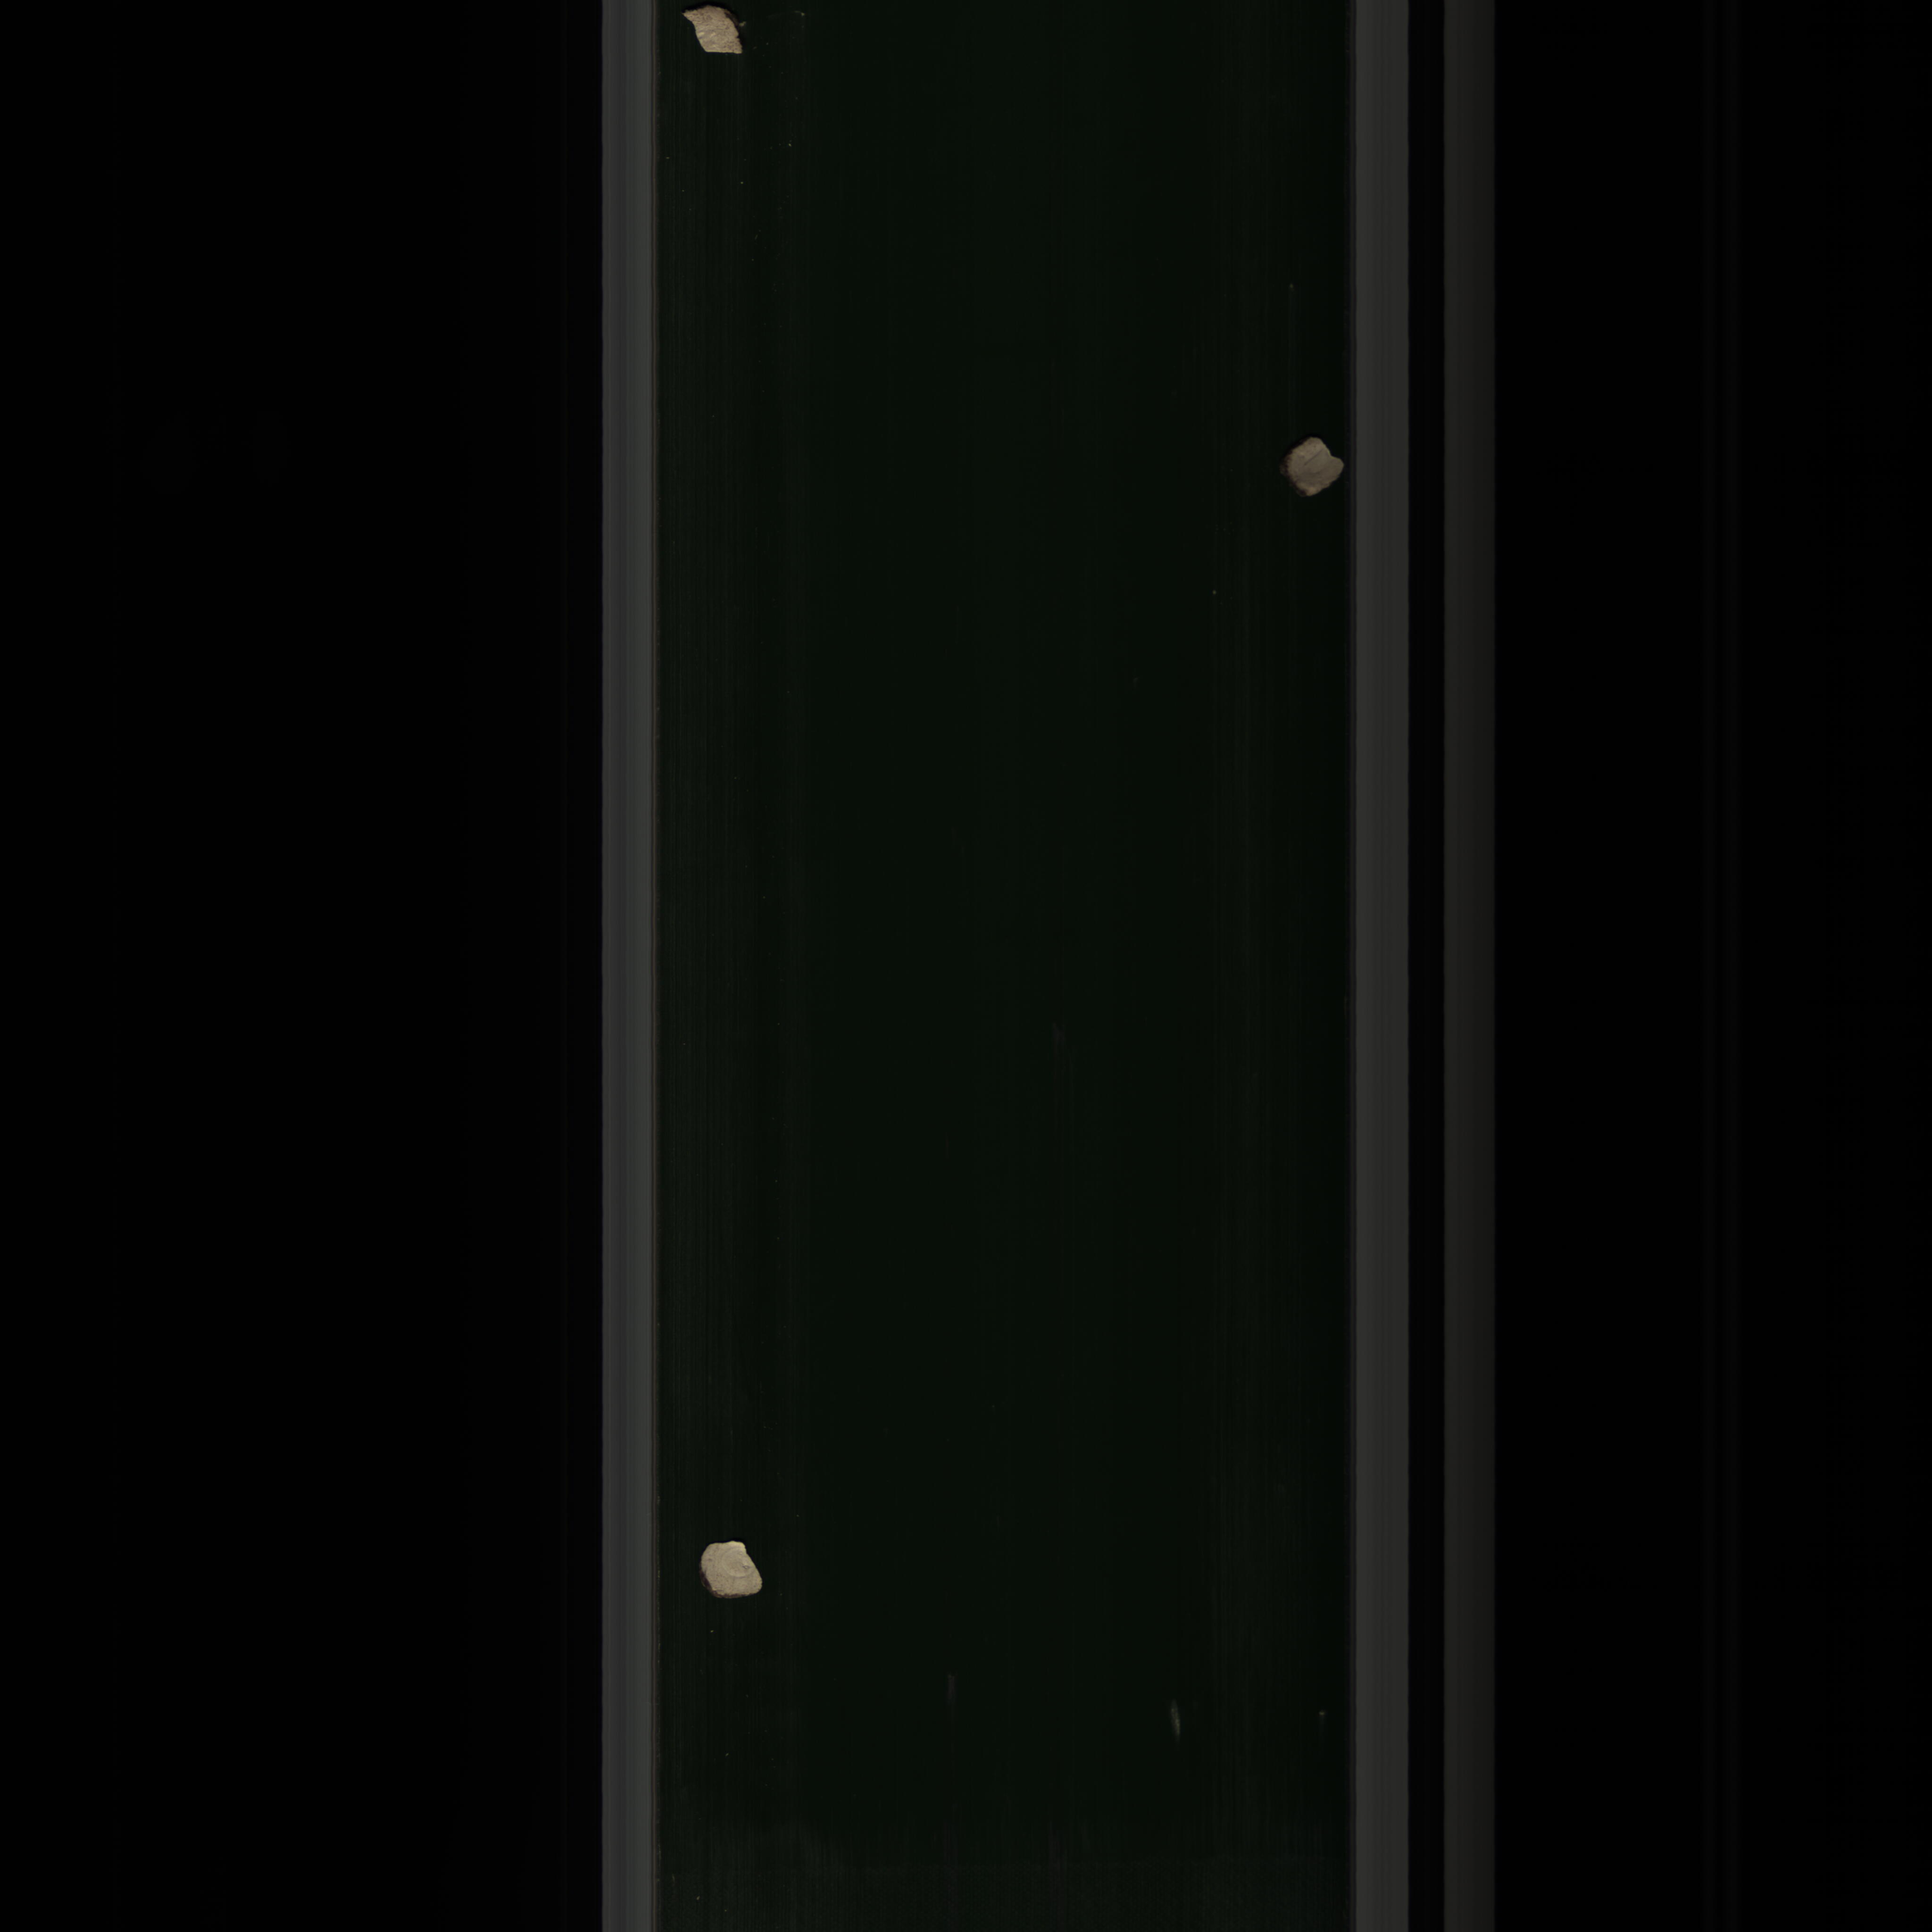debris: (692, 1532, 782, 1612), (1269, 430, 1350, 510), (672, 2, 757, 71)
